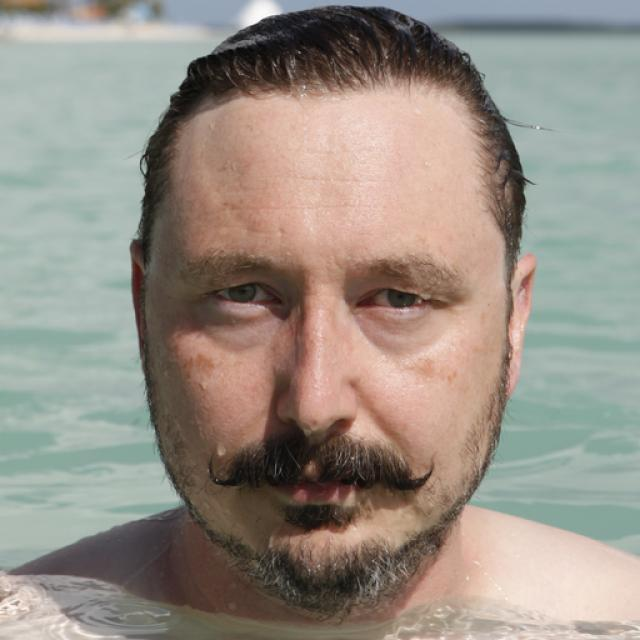neutral: (145, 69, 505, 618)
